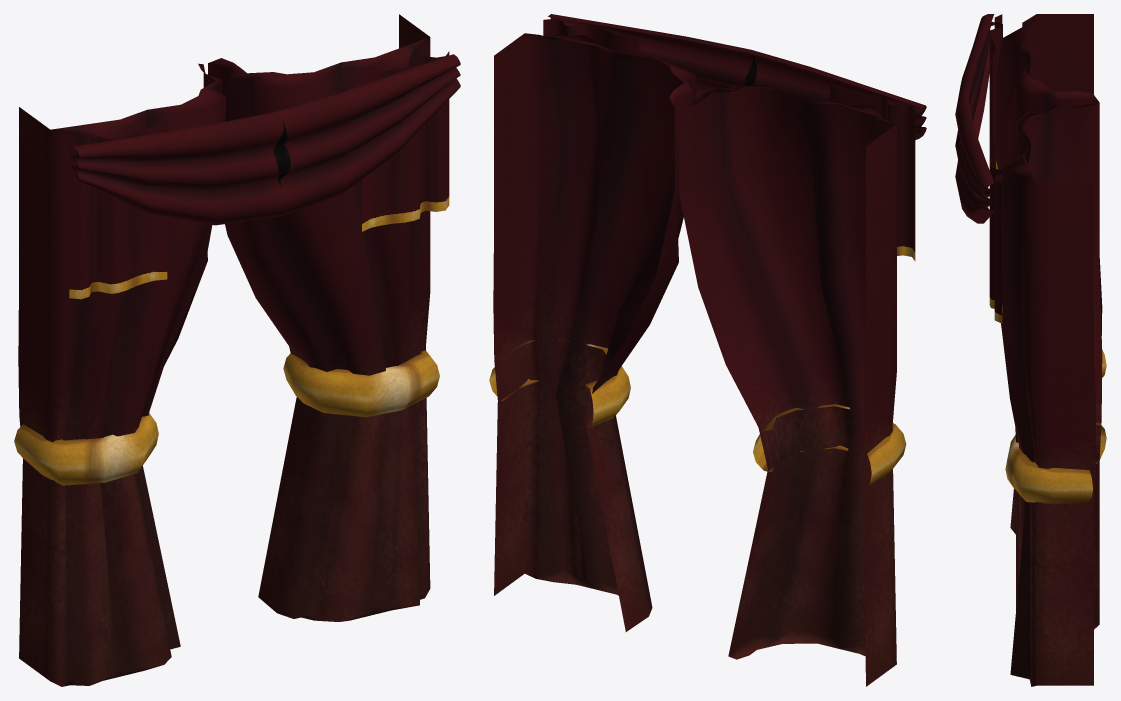
The model's file is Curtains.fbx.
The picture shows the model from 3 angles, left to right: view 1: azimuth 30°, elevation 25°; view 2: azimuth 150°, elevation 25°; view 3: azimuth 270°, elevation 25°; orthographic projection. The views are drawn at different scales.
Parts seen in each view (by area): view 1: Curtain_Drapes, Curtain_Top, Curtain_SideThing_1, Curtain_SideThing_2, Curtain_Tie_2, Curtain_Tie_1; view 2: Curtain_Drapes, Curtain_Top, Curtain_SideThing_1, Curtain_Tie_1, Curtain_Tie_2, Curtain_SideThing_2; view 3: Curtain_Drapes, Curtain_Top, Curtain_Tie_2, Curtain_SideThing_2, Curtain_SideThing_1.
Part boxes in pixels (<box>): Curtain_Drapes: <box>18,14,430,686</box>; Curtain_Top: <box>72,54,460,225</box>; Curtain_SideThing_1: <box>69,125,167,299</box>; Curtain_SideThing_2: <box>362,51,449,231</box>; Curtain_Tie_2: <box>283,350,439,417</box>; Curtain_Tie_1: <box>14,413,158,485</box>; Curtain_Drapes: <box>493,33,896,686</box>; Curtain_Top: <box>548,14,926,139</box>; Curtain_SideThing_1: <box>830,85,915,261</box>; Curtain_Tie_1: <box>753,404,906,488</box>; Curtain_Tie_2: <box>489,340,630,428</box>; Curtain_SideThing_2: <box>543,18,639,55</box>; Curtain_Drapes: <box>996,14,1102,686</box>; Curtain_Top: <box>955,14,997,223</box>; Curtain_Tie_2: <box>1005,422,1106,504</box>; Curtain_SideThing_2: <box>989,142,1002,323</box>; Curtain_SideThing_1: <box>989,14,1002,168</box>.
Bounding box in the file's own units: 16.24 × 21.86 × 5.91.
